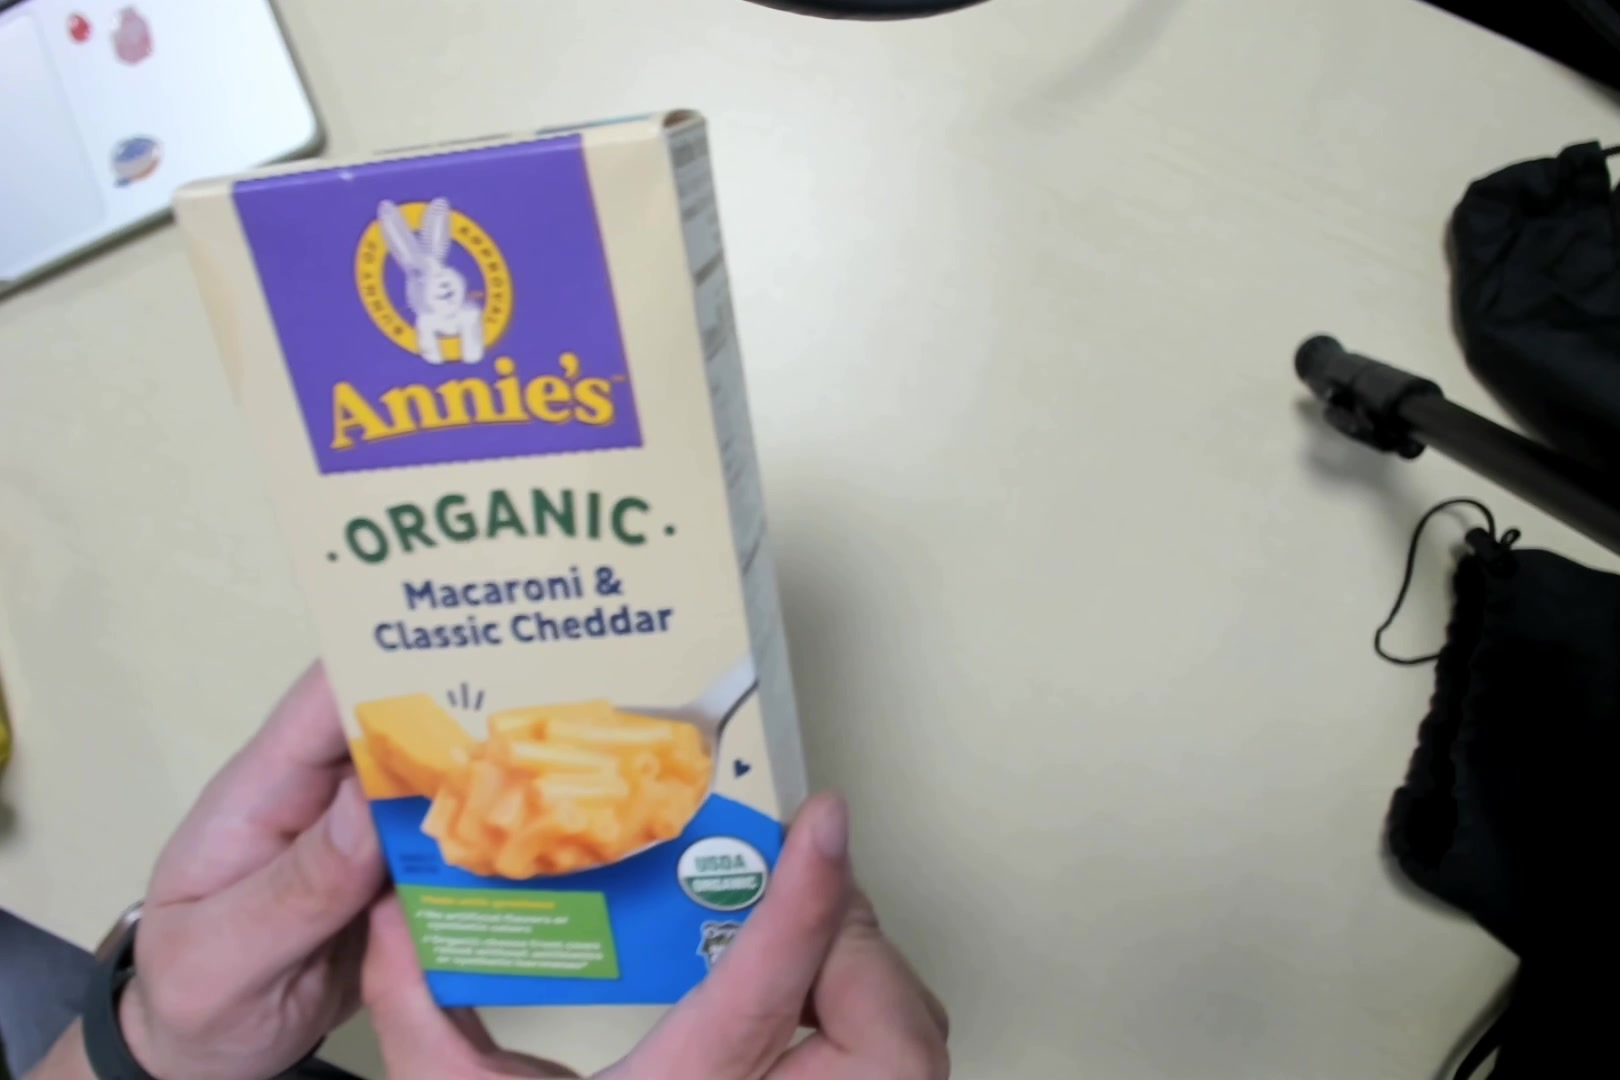InstantMeals_200-299g_NonHalal_NonHealthy: (181, 107, 824, 1022)
